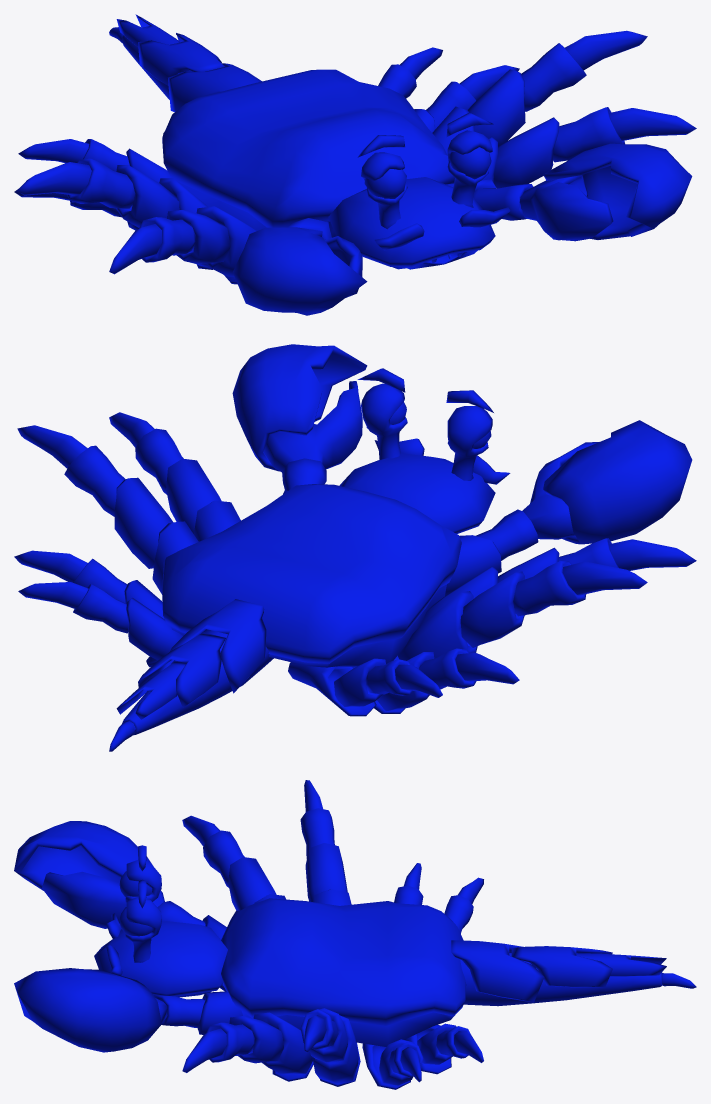
File: SM_Carb_Unwrap_002.fbx
3 views of the same model, one above another, from view 1: azimuth 30°, elevation 25°; view 2: azimuth 150°, elevation 25°; view 3: azimuth 270°, elevation 25° (orthographic). The views are drawn at different scales.
Parts seen in each view (by area): view 1: SM_CARB_Orange.001; view 2: SM_CARB_Orange.001; view 3: SM_CARB_Orange.001.
Part boxes in pixels (<box>): SM_CARB_Orange.001: <box>14,14,696,315</box>; SM_CARB_Orange.001: <box>14,344,696,751</box>; SM_CARB_Orange.001: <box>14,780,696,1089</box>.
Size of the model in its own units: 116 by 108 by 32.53.
